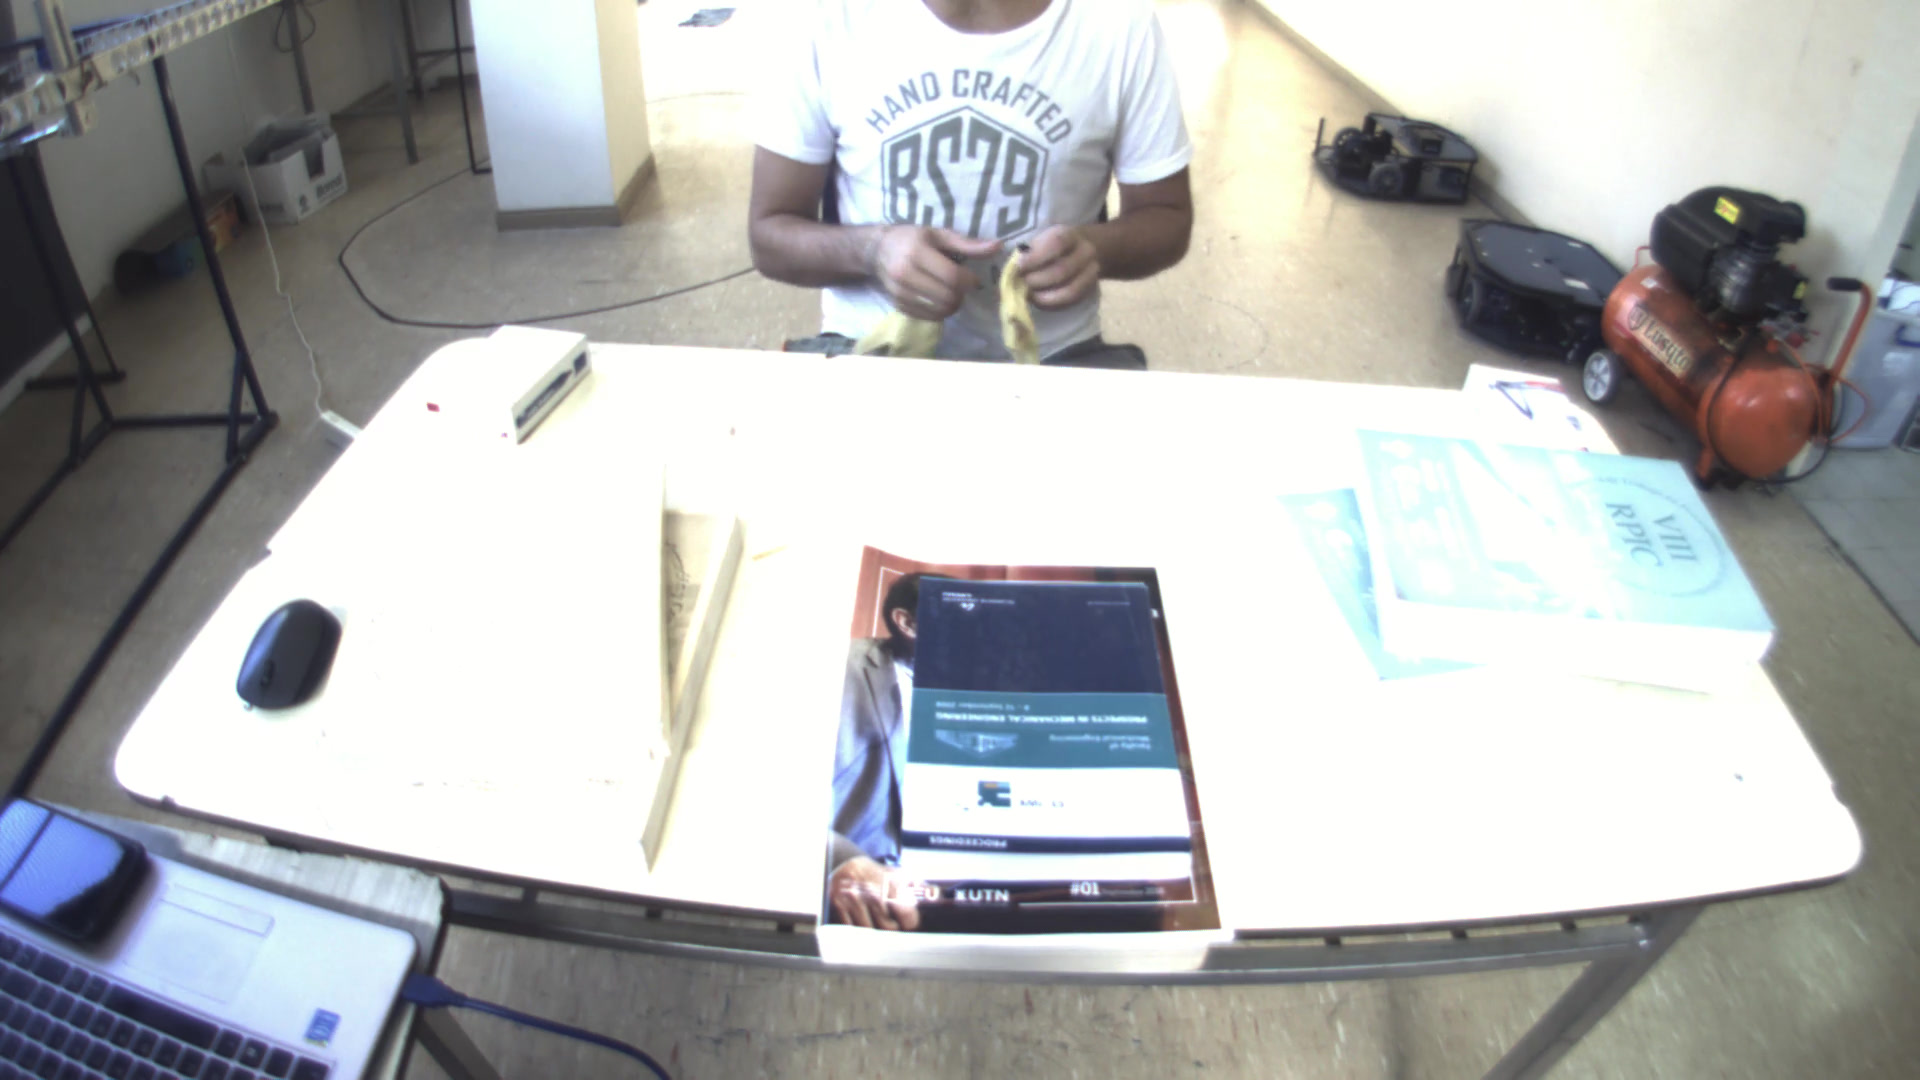hand: (866, 214, 1002, 328), (1011, 224, 1114, 322)
